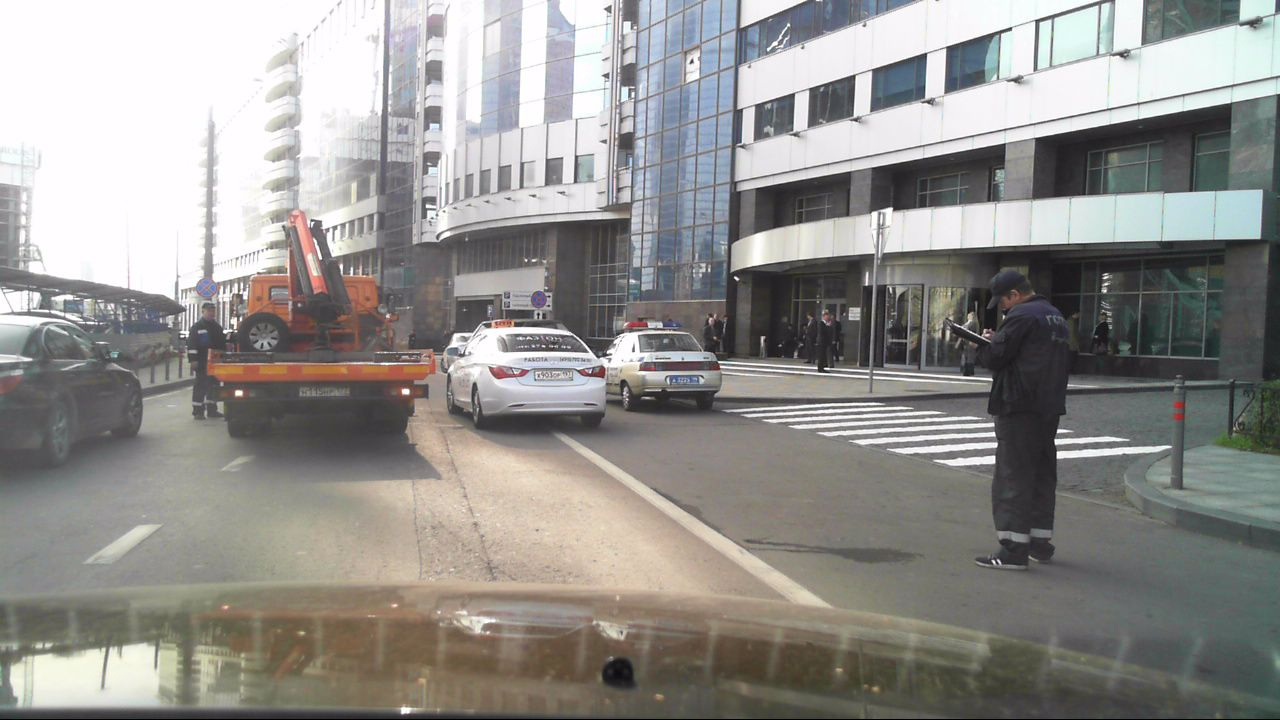No Parking: (530, 288, 548, 311)
